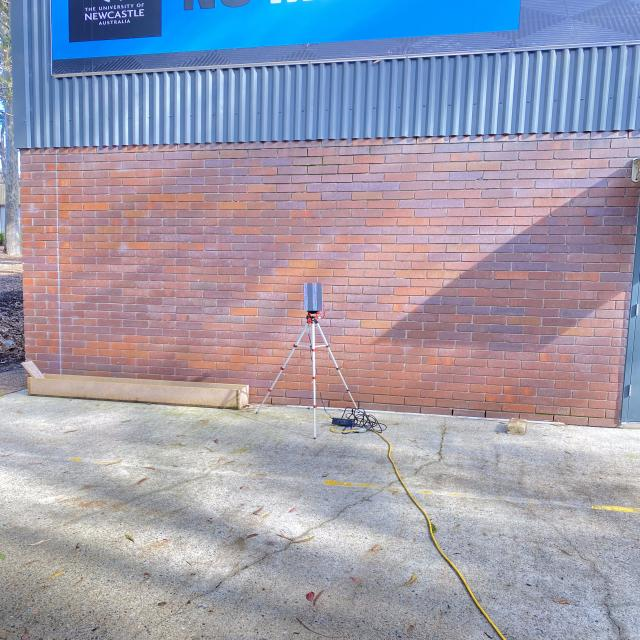matrix: (302, 282, 323, 312)
